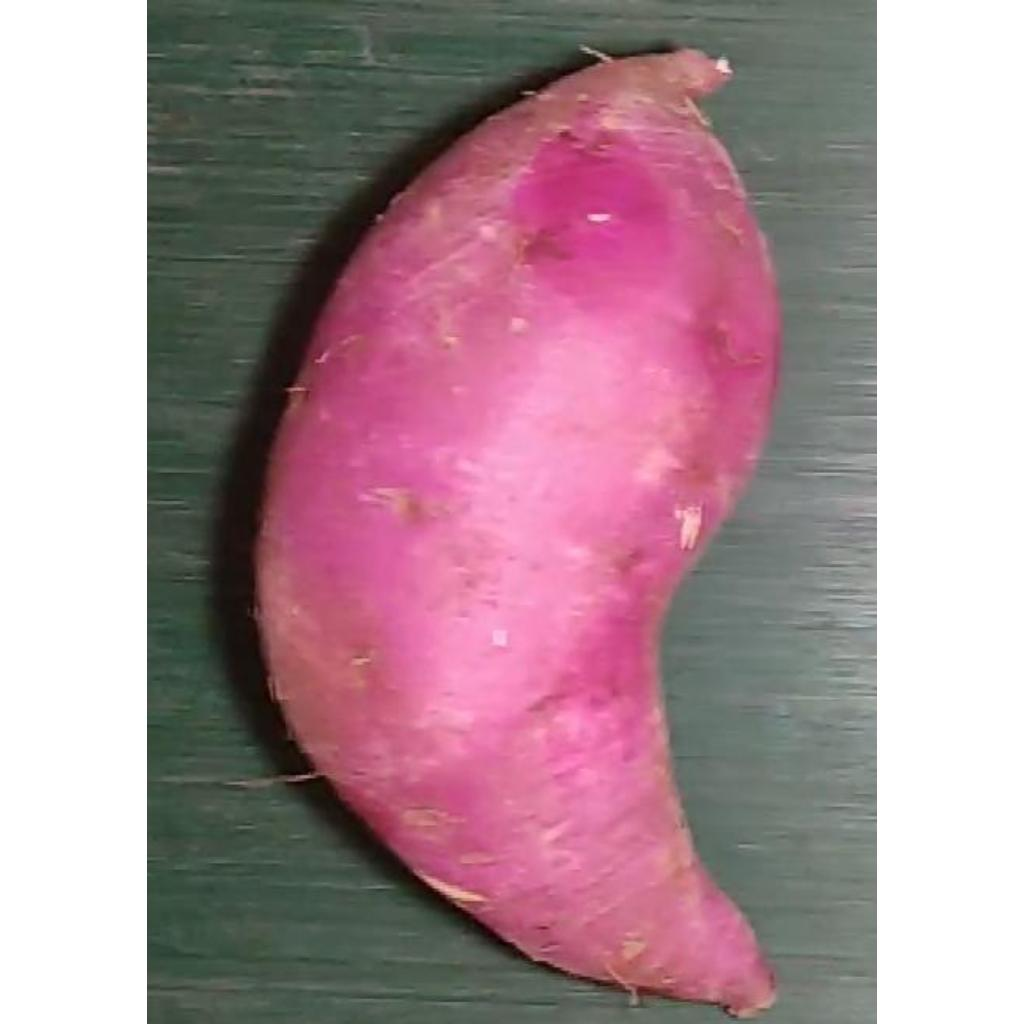Sweet Potato: (253, 47, 785, 1019)
